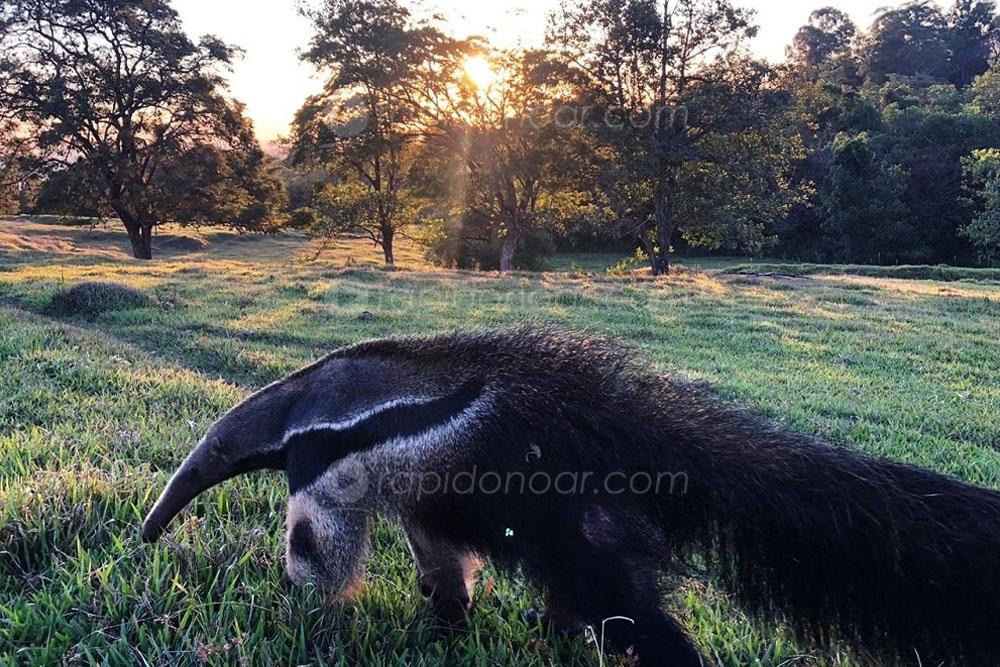TamanduaBandeira: (133, 323, 992, 656)
